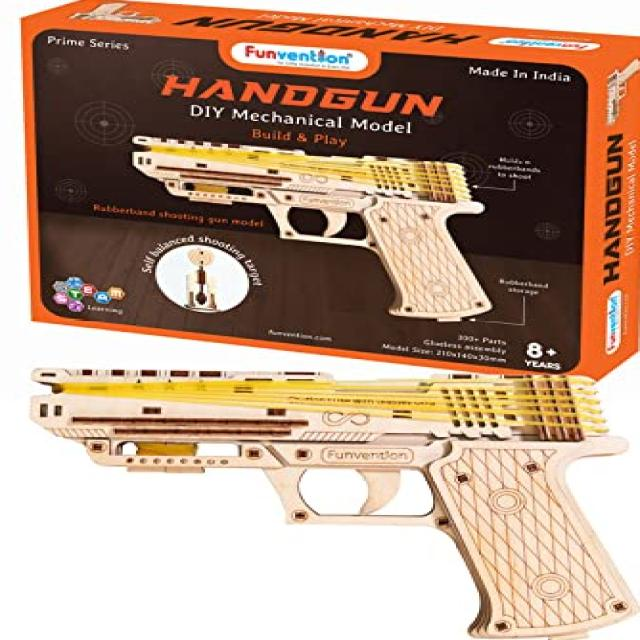Weapon: (33, 367, 634, 639)
